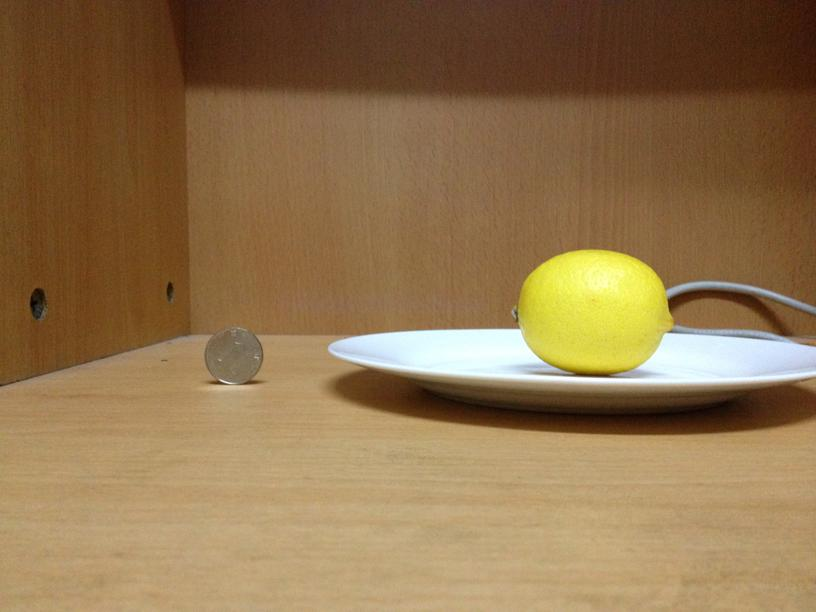coin: (203, 326, 262, 385)
lemon: (516, 250, 673, 373)
